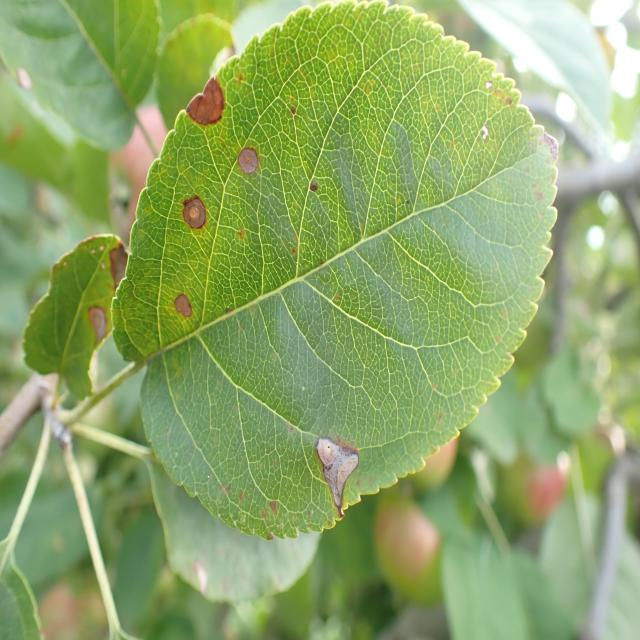Black Rot: (287, 400, 372, 550), (175, 68, 244, 140), (52, 302, 136, 358), (97, 216, 142, 297), (174, 159, 210, 260), (228, 142, 292, 187), (157, 286, 208, 336)
